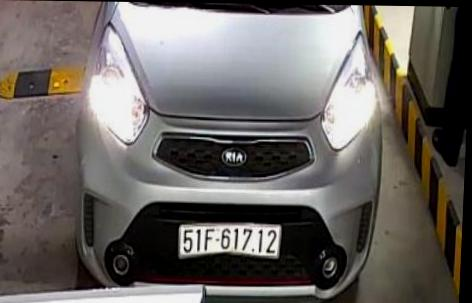License_Plate: (173, 220, 284, 263)
